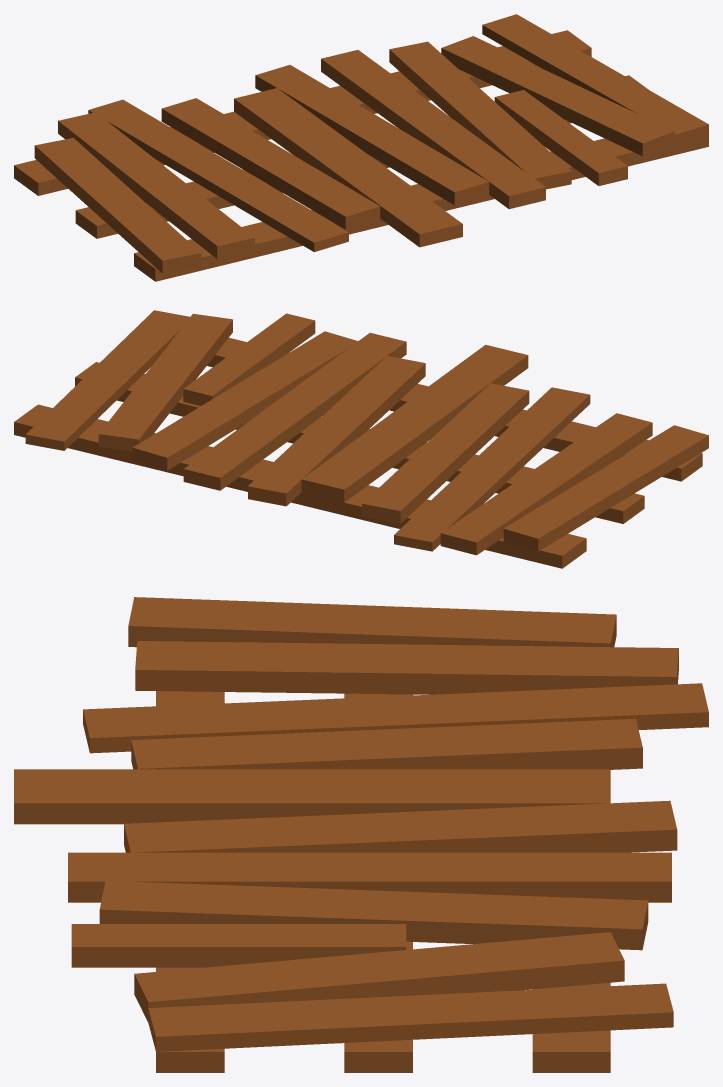
File: Prop_Walkway_Timber_Simple_01.fbx
3 renders of one model, top to bottom at view 1: azimuth 30°, elevation 25°; view 2: azimuth 150°, elevation 25°; view 3: azimuth 270°, elevation 25°, orthographic. The views are drawn at different scales.
Parts seen in each view (by area): view 1: Prop_Walkway_Timber_Simple_01; view 2: Prop_Walkway_Timber_Simple_01; view 3: Prop_Walkway_Timber_Simple_01.
Part boxes in pixels (x1,y1,x2,y2): Prop_Walkway_Timber_Simple_01: (14, 14, 708, 281); Prop_Walkway_Timber_Simple_01: (14, 310, 708, 568); Prop_Walkway_Timber_Simple_01: (14, 597, 708, 1072).
Size of the model in its own units: 2.72 by 0.1226 by 1.84.
